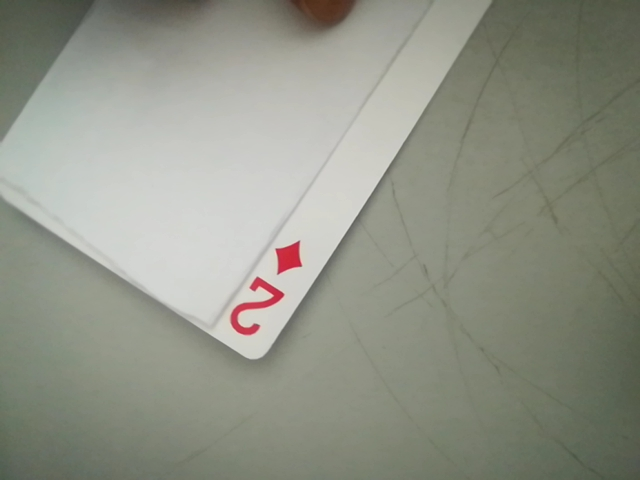fk 2: (216, 235, 315, 352)
